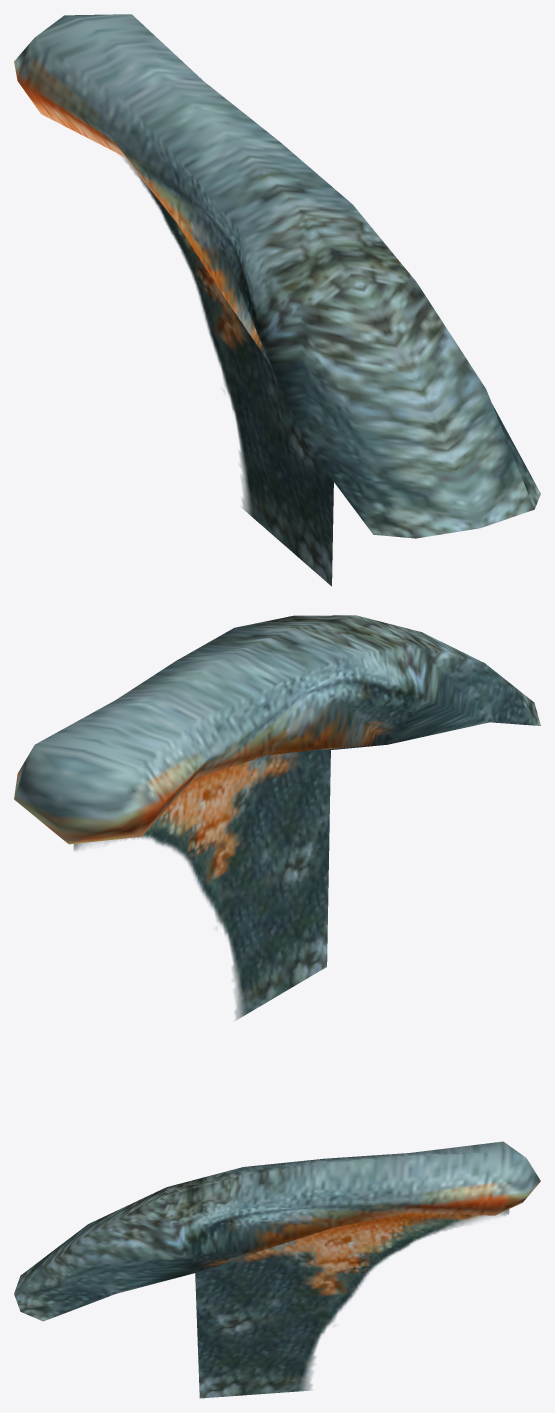
Rendered from b_n_argonian_m_hair04.glb.
The picture shows the model from 3 angles, top to bottom: view 1: azimuth 30°, elevation 25°; view 2: azimuth 150°, elevation 25°; view 3: azimuth 270°, elevation 25°; orthographic projection. The views are drawn at different scales.
Parts seen in each view (by area): view 1: Tri B_N_Argonian_M_Hair04; view 2: Tri B_N_Argonian_M_Hair04; view 3: Tri B_N_Argonian_M_Hair04.
Part boxes in pixels (x1,y1,x2,y2): Tri B_N_Argonian_M_Hair04: (14,14,540,586); Tri B_N_Argonian_M_Hair04: (14,615,540,1020); Tri B_N_Argonian_M_Hair04: (14,1141,540,1398).
Size of the model in its own units: 0.044 by 0.0894 by 0.175.
Materials: 1 (1 with a texture image).
